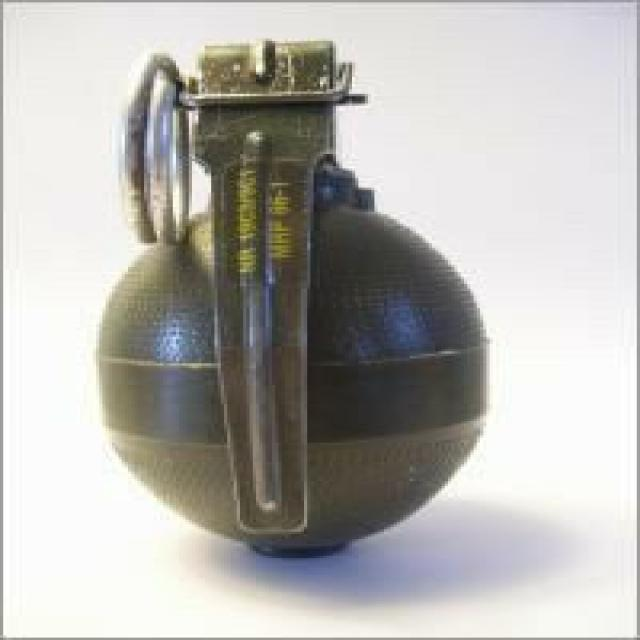bomb: (59, 43, 529, 528)
